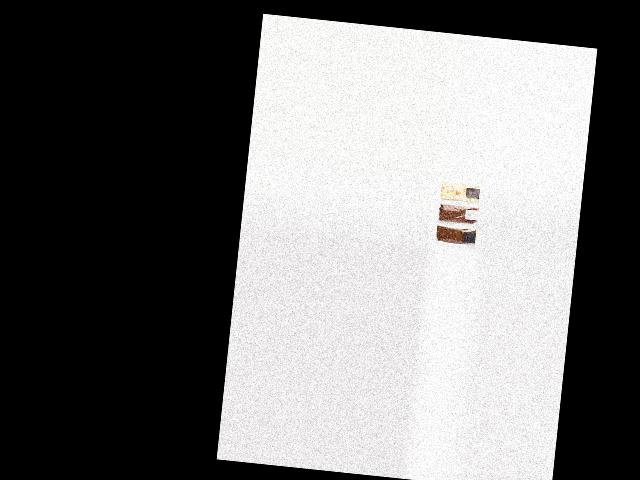chocolate: (433, 226, 476, 248)
